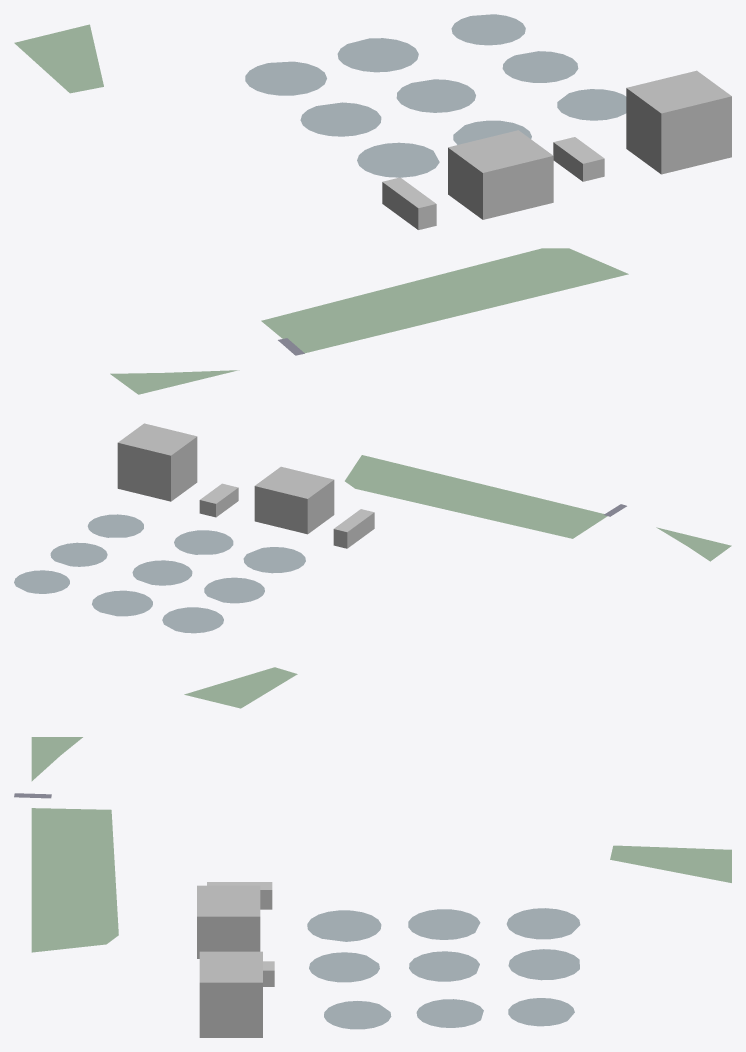
Rendered from 129_79_mid.glb.
The picture shows the model from 3 angles, top to bottom: view 1: azimuth 30°, elevation 25°; view 2: azimuth 150°, elevation 25°; view 3: azimuth 270°, elevation 25°; orthographic projection. The views are drawn at different scales.
Size of the model in its own units: 511 by 44.76 by 513.
